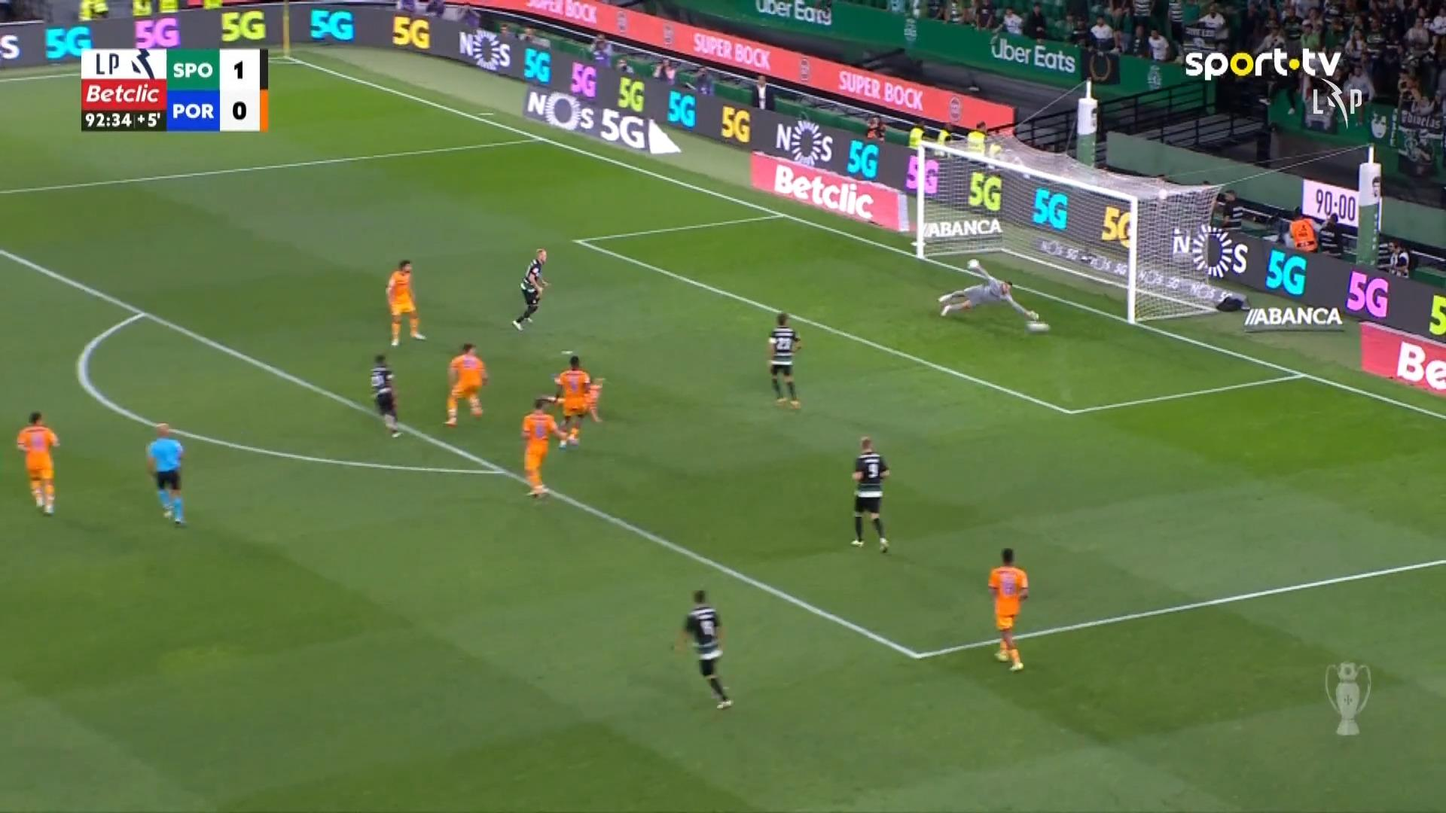ball: (1026, 321, 1049, 333)
goalkeeper: (937, 257, 1042, 329)
player: (672, 588, 733, 709), (987, 547, 1029, 671), (520, 395, 569, 498), (850, 435, 890, 553), (15, 410, 59, 515), (444, 342, 488, 426), (385, 258, 426, 346), (553, 355, 590, 448), (767, 311, 802, 408), (511, 247, 550, 331), (369, 353, 401, 438), (584, 375, 605, 423)
referee: (145, 422, 187, 526)
